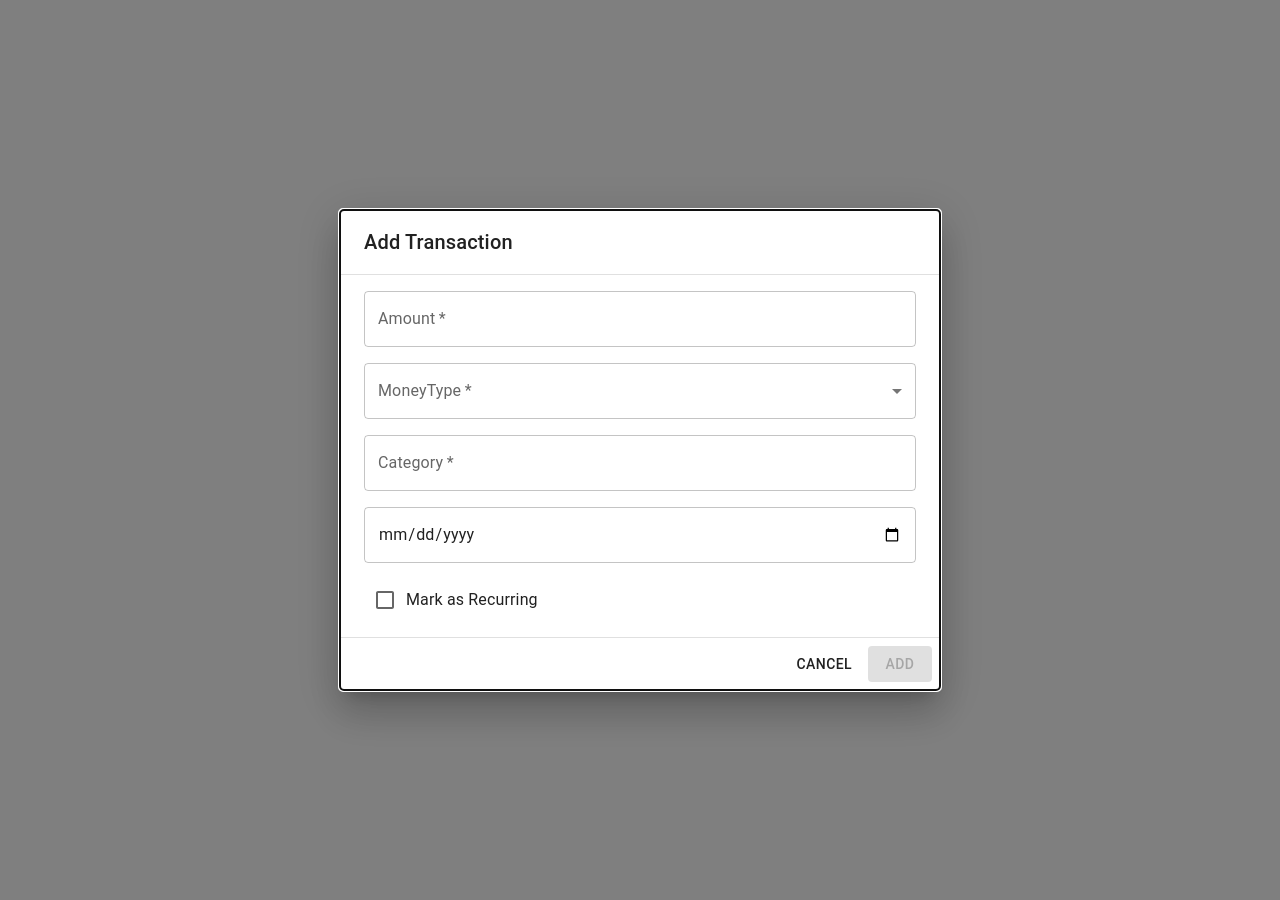
TransactionForm › submit disabled until form valid
Expected: the button "Add" is disabled, [868,646,932,682]
Type "100" into the number field with test id "amount" at (640, 319), box [364,291,916,347]
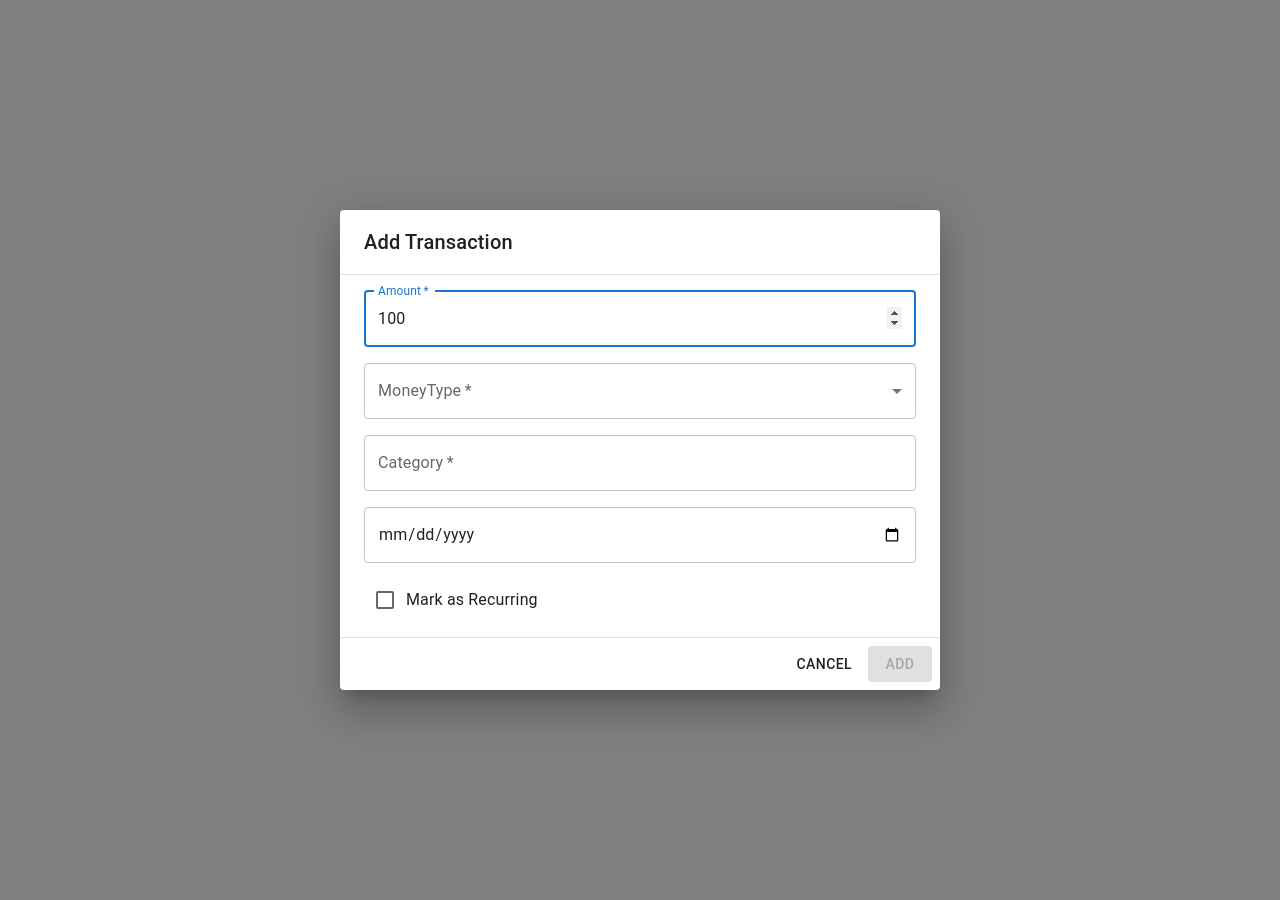
Type "Food" into the field with test id "Category" at (640, 463), box [364,435,916,491]
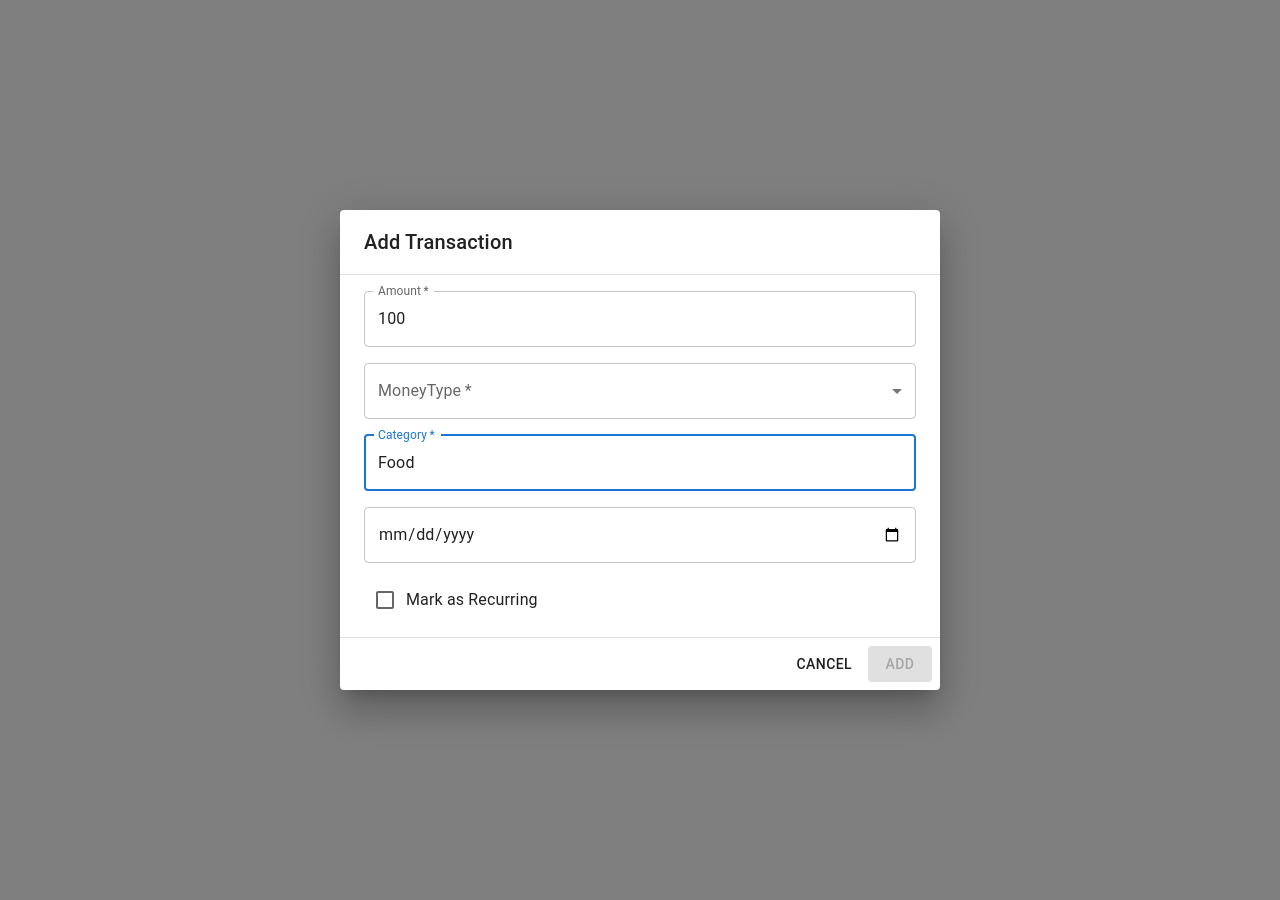
Click the dropdown named "type" at (640, 391), box [364,363,916,419]
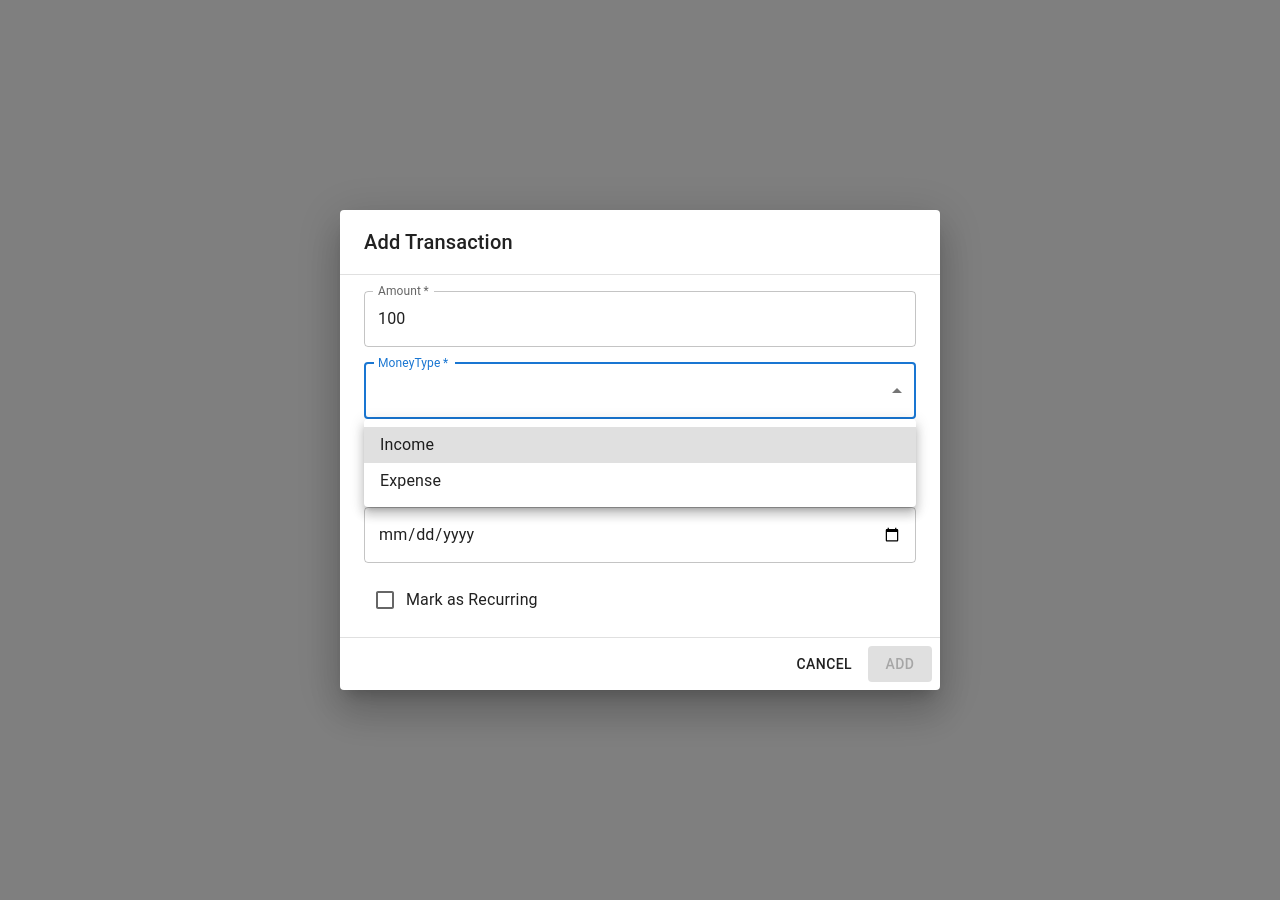
Click the option "Income" at (407, 444), box [364,427,916,463]
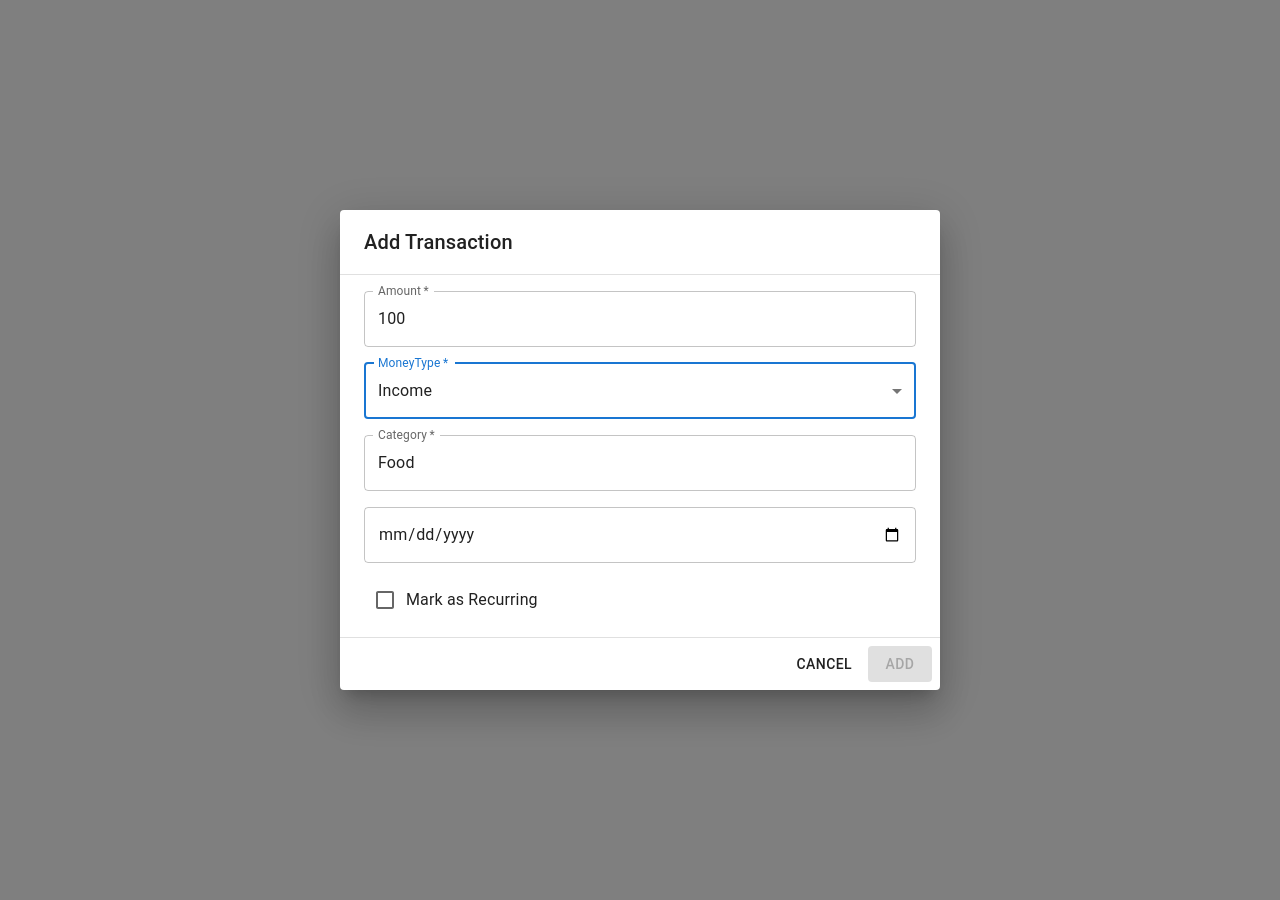
Type "2026-01-01" into the date field with test id "date" at (640, 535), box [364,507,916,563]
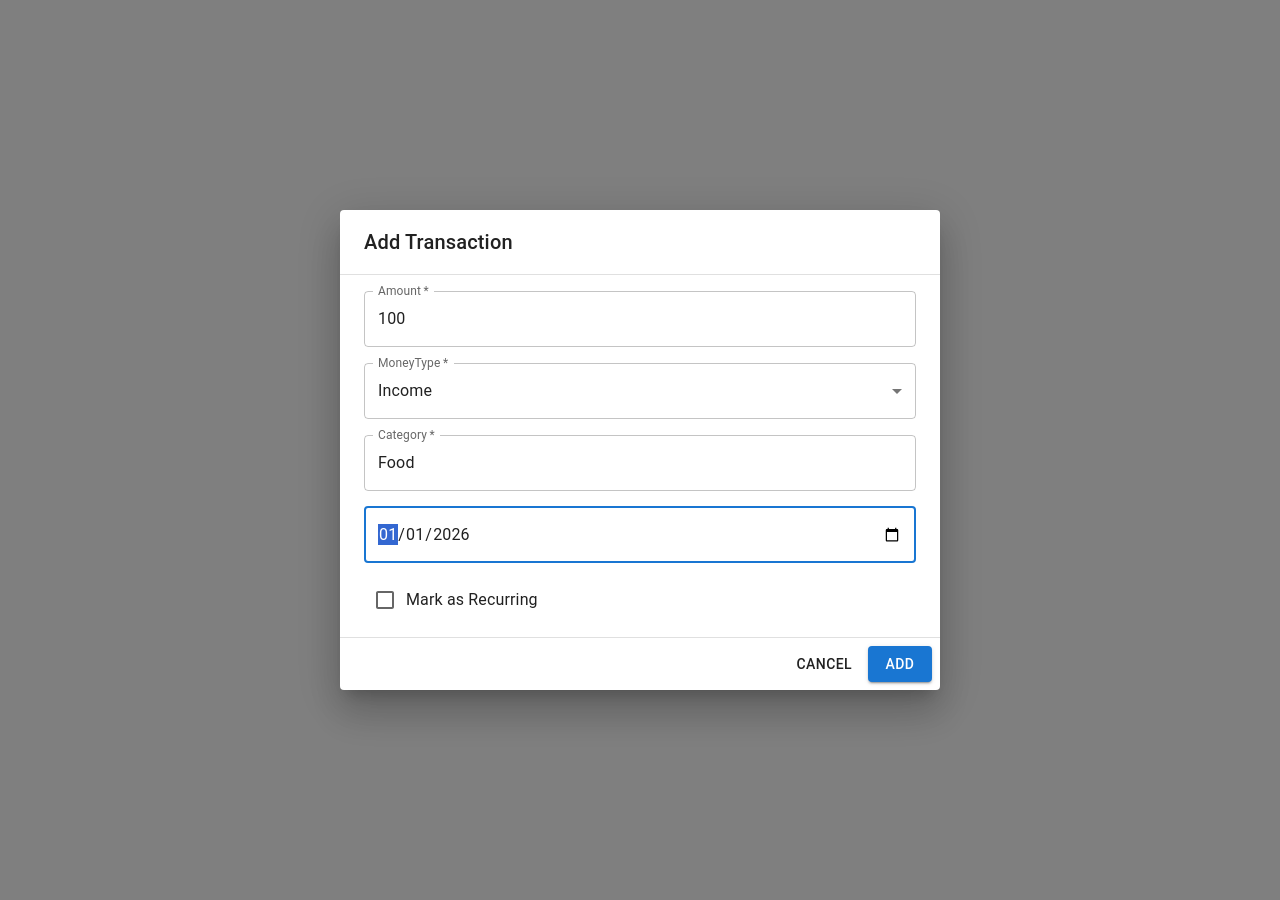
Now the button "Add" is enabled, box [868,646,932,682]
